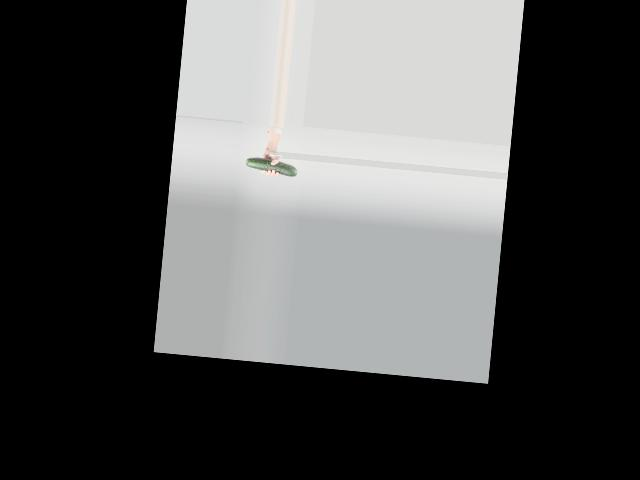cucumber: (246, 156, 298, 177)
